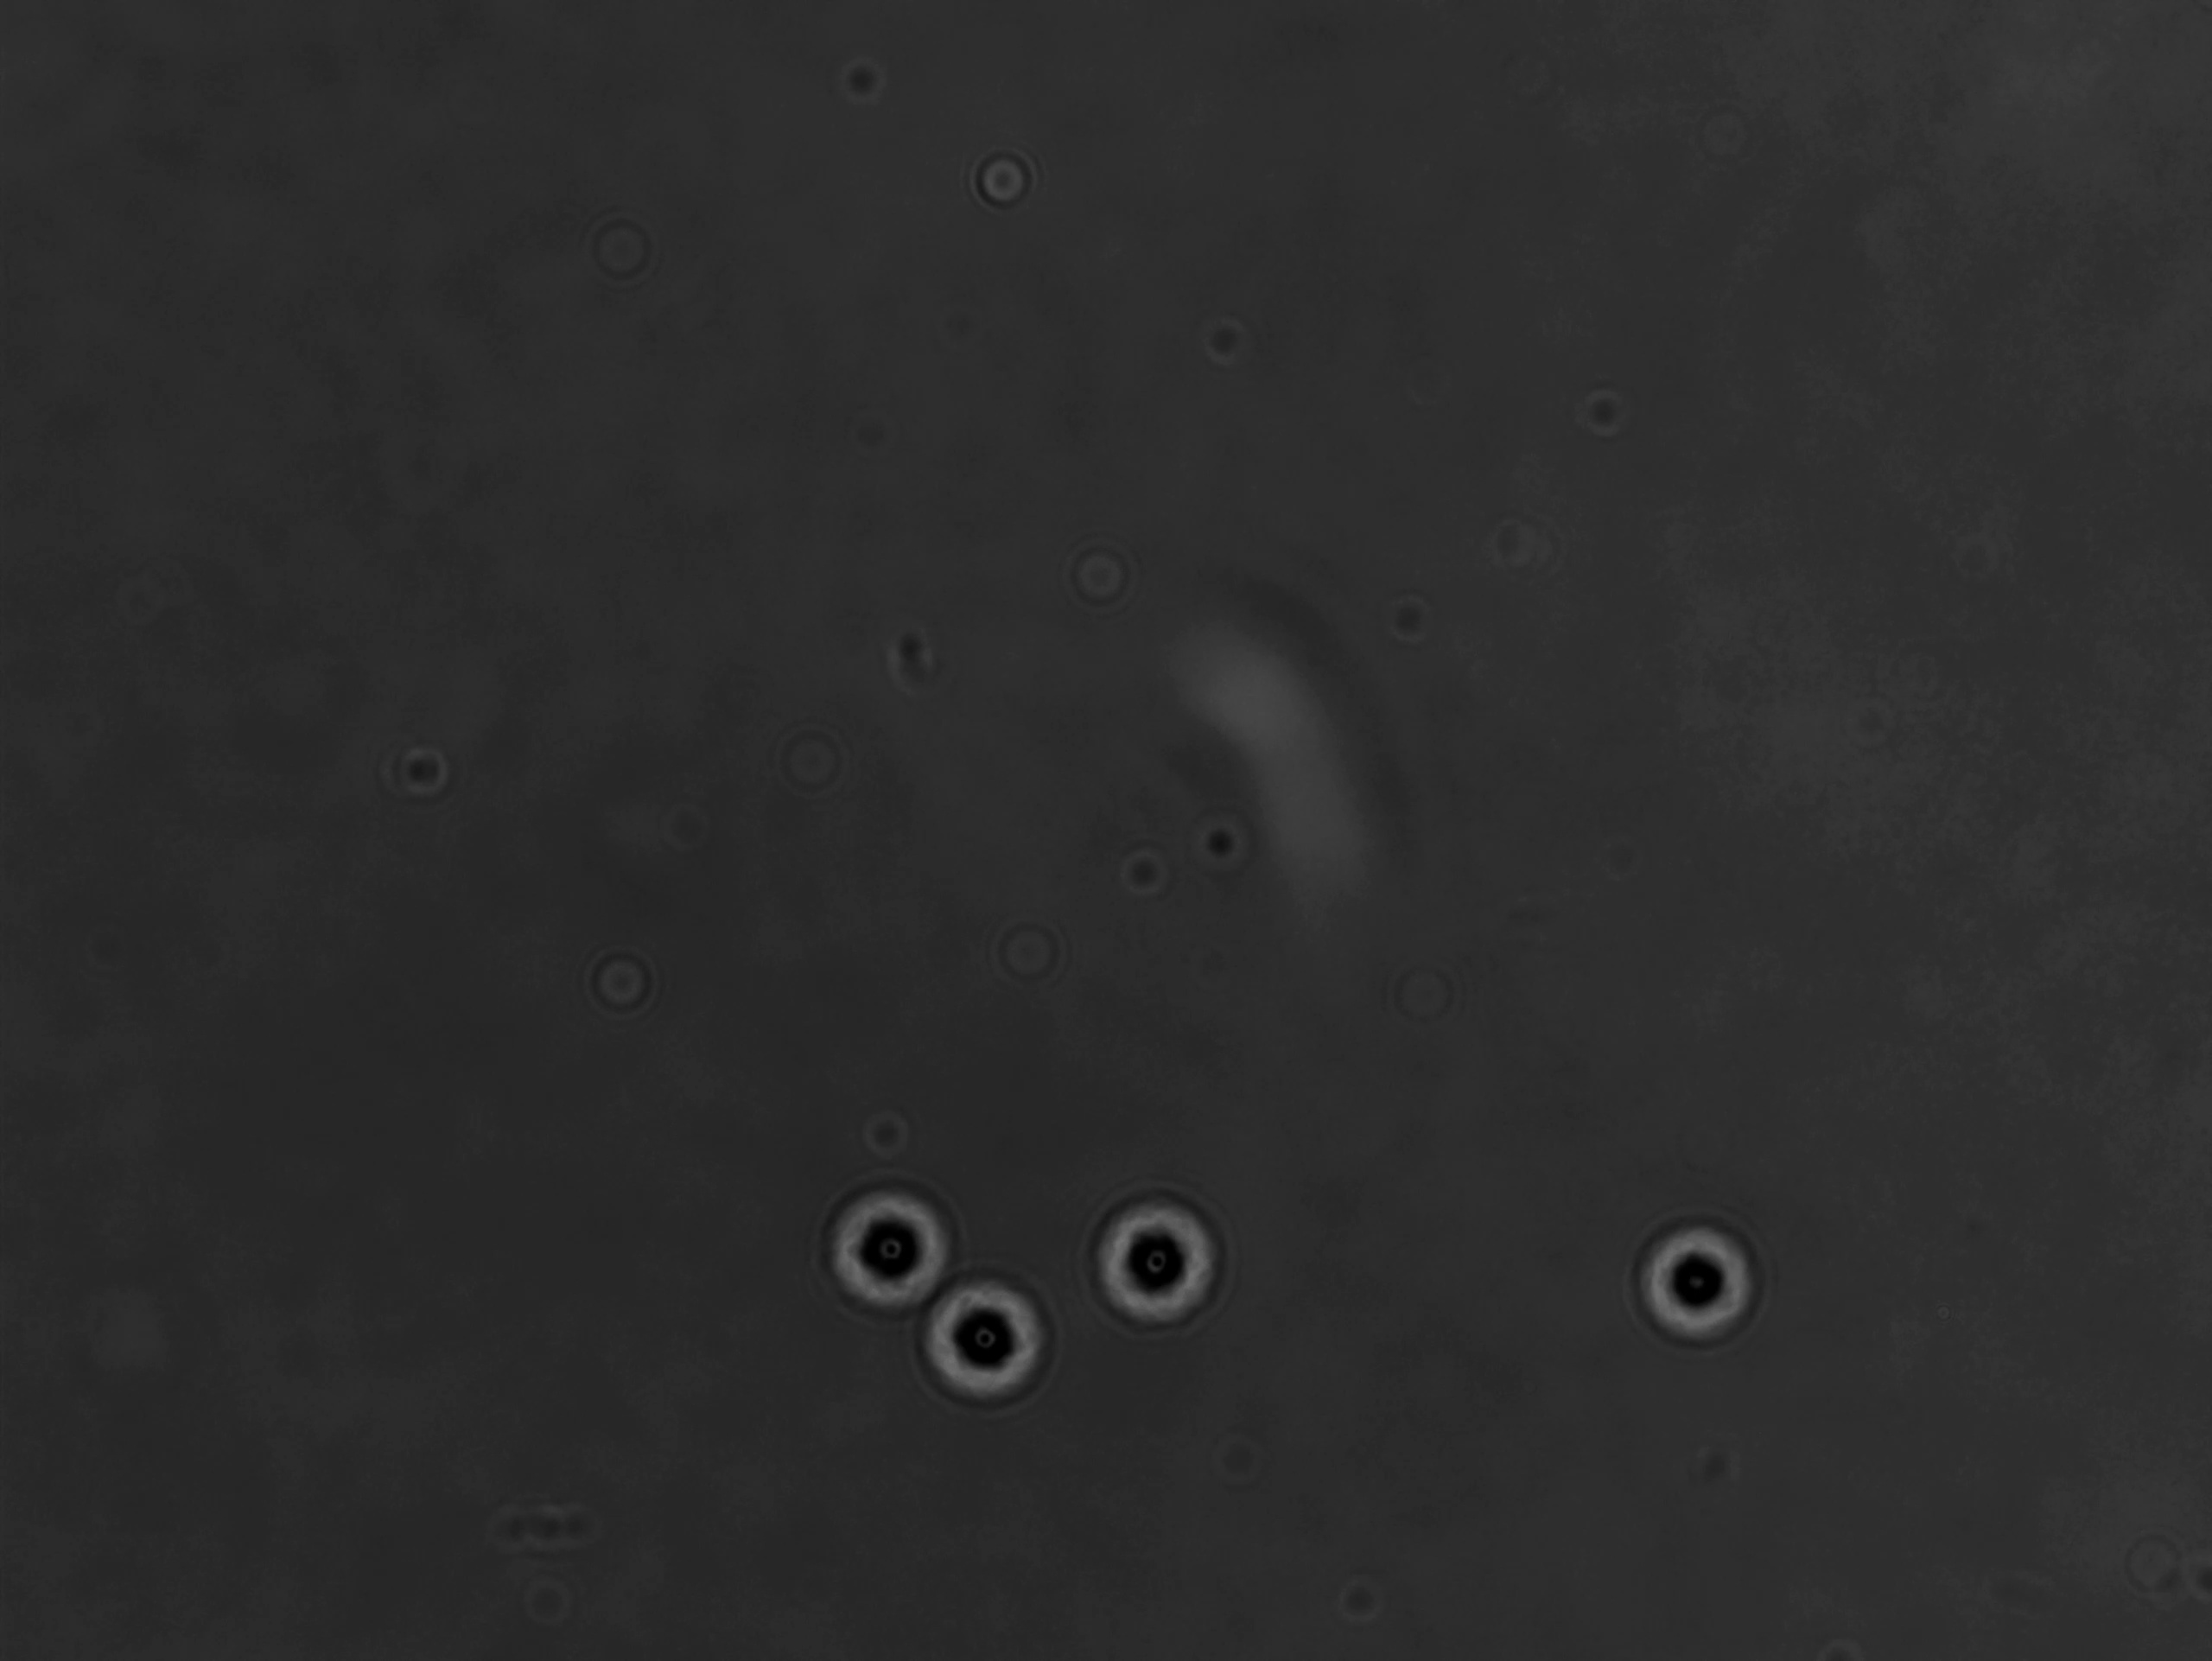depth:-20: (1076, 1178, 1246, 1331), (912, 1254, 1068, 1415), (1621, 1195, 1781, 1350), (808, 1160, 961, 1319)
